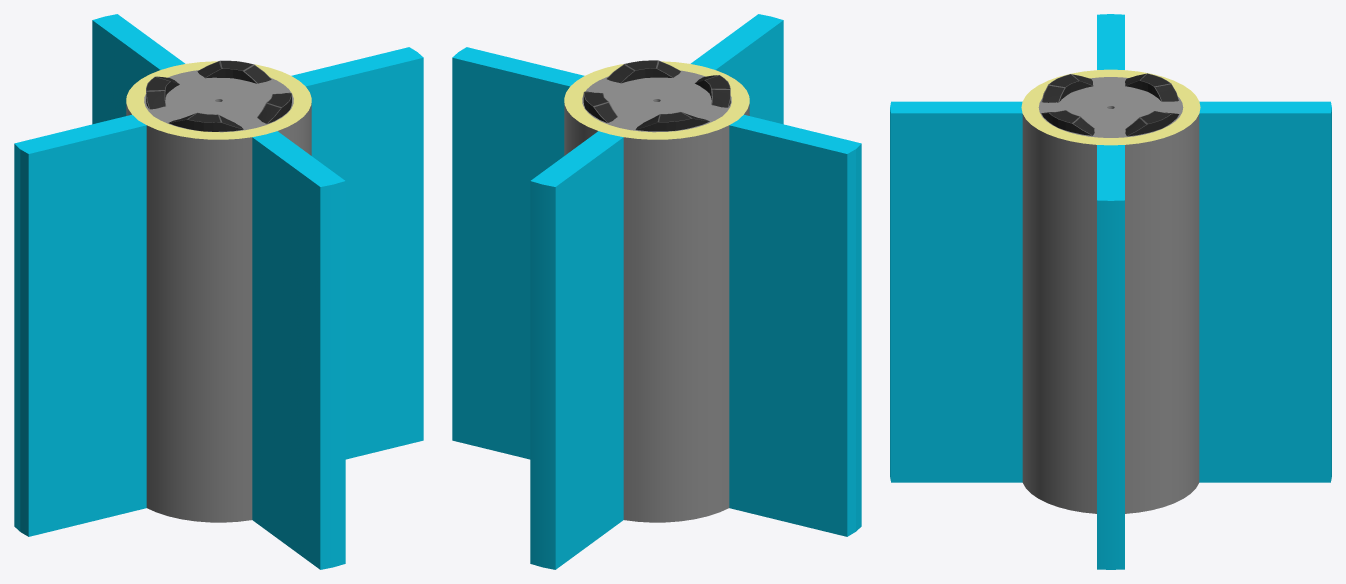
Rendered from Map1PlataformesForat.FBX.
The picture shows the model from 3 angles, left to right: view 1: azimuth 30°, elevation 25°; view 2: azimuth 150°, elevation 25°; view 3: azimuth 270°, elevation 25°; orthographic projection. The views are drawn at different scales.
Visible parts, largest first — view 1: Map1Plataformas; view 2: Map1Plataformas; view 3: Map1Plataformas.
Part boxes in pixels (box(x1,y1,x2,y2)): Map1Plataformas: box(14, 14, 423, 569); Map1Plataformas: box(452, 14, 861, 569); Map1Plataformas: box(890, 14, 1331, 569).
Size of the model in its own units: 14636 by 14621 by 13790.
